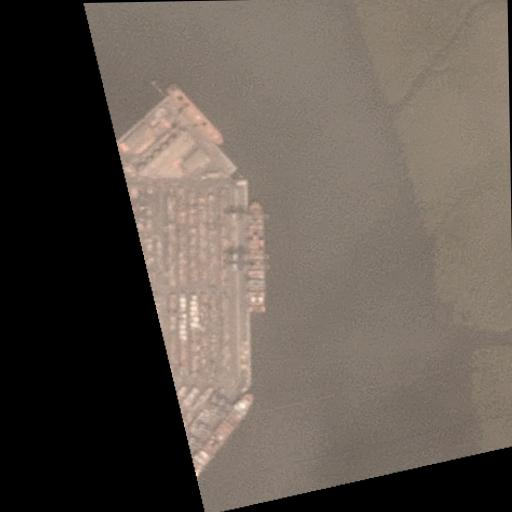ship: (196, 392, 256, 476), (164, 82, 223, 145), (248, 200, 264, 312)
